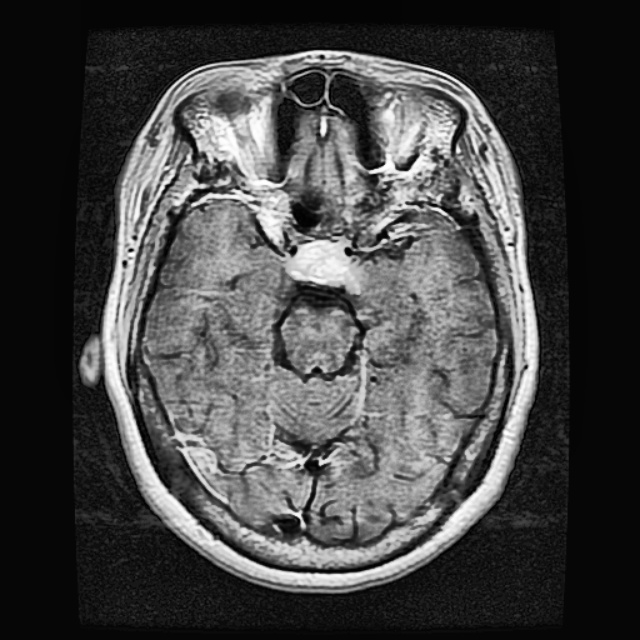Pituitary: (289, 237, 350, 285)
